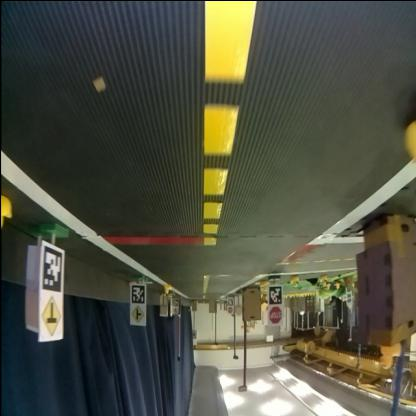Duckie: (260, 281, 267, 291), (290, 278, 298, 286), (164, 286, 172, 294), (322, 277, 327, 285)
Intersection sign: (40, 297, 62, 337), (130, 305, 146, 325)
QR code: (40, 244, 64, 292), (131, 284, 145, 304), (268, 286, 283, 304)
Stop sign: (269, 306, 283, 324)
